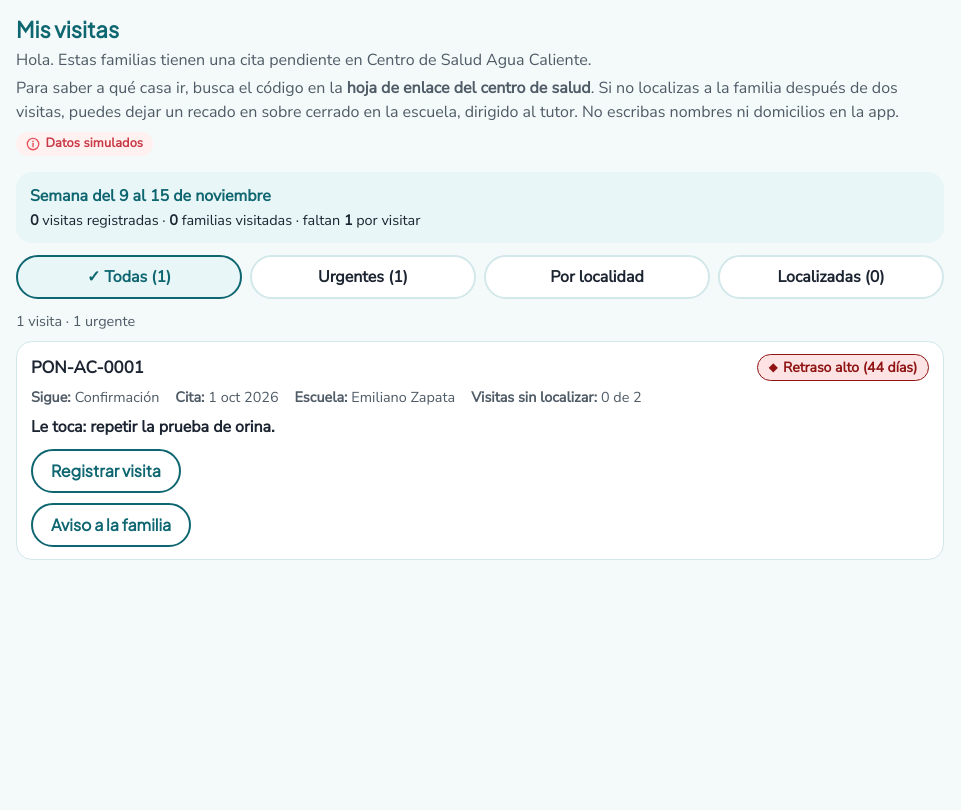
Test: Aviso a la familia (HU06) › al elegir Recado escolar, la vista previa cambia a hoja formal con escuela, código, motivo y cita
Click the button "Aviso a la familia": (111, 525) [31,503,191,547]
(page scrolled)
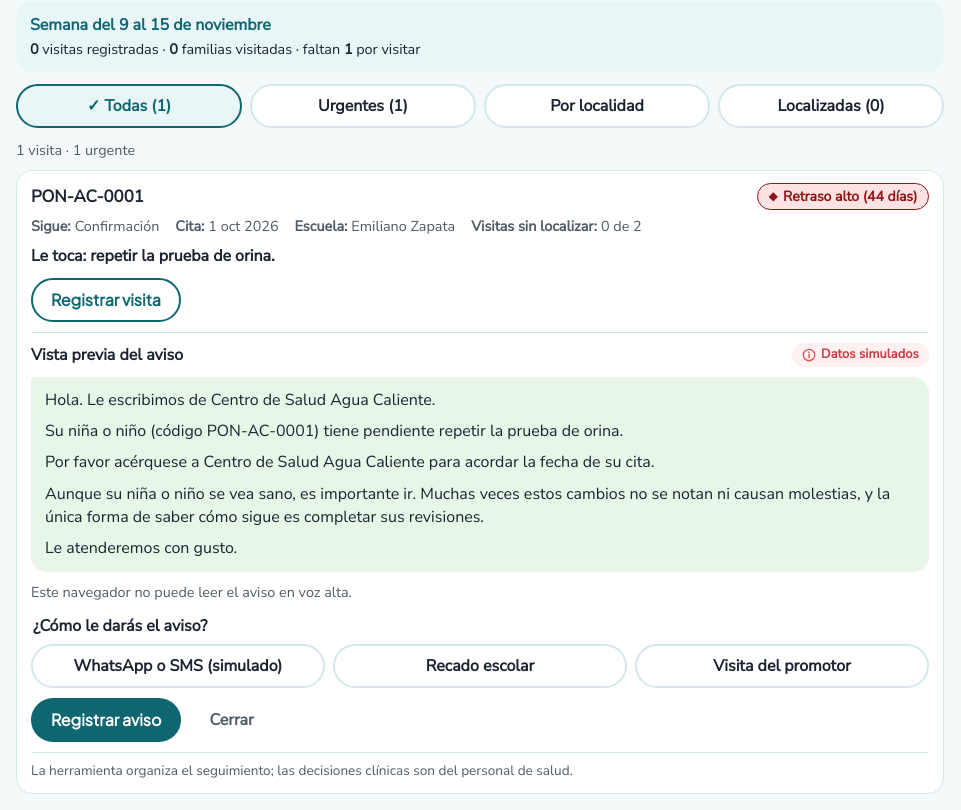
Click the button "Recado escolar": (480, 666) [333,644,627,688]
(page scrolled)
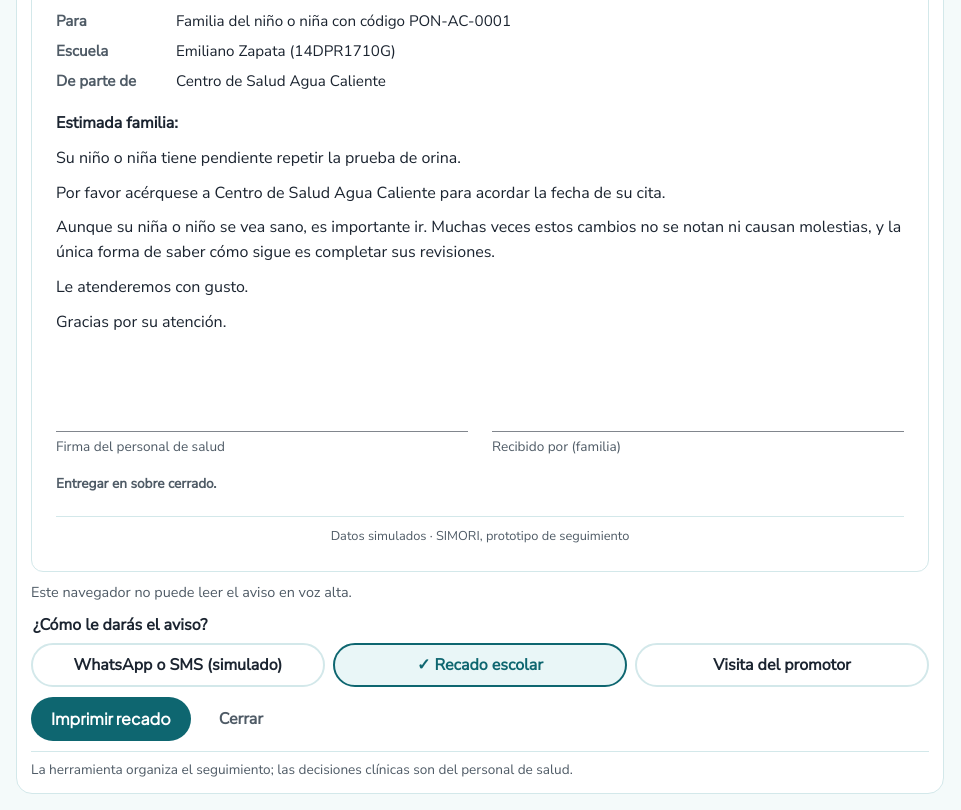
Expected: the text "Centro de Salud Agua Caliente" is shown, [176,70,386,90]
Expected: the text "Emiliano Zapata (14DPR1710G)" is shown, [176,41,396,61]
Expected: the text "Familia del niño o niña con código PON-AC-0001" is shown, [176,11,511,31]
